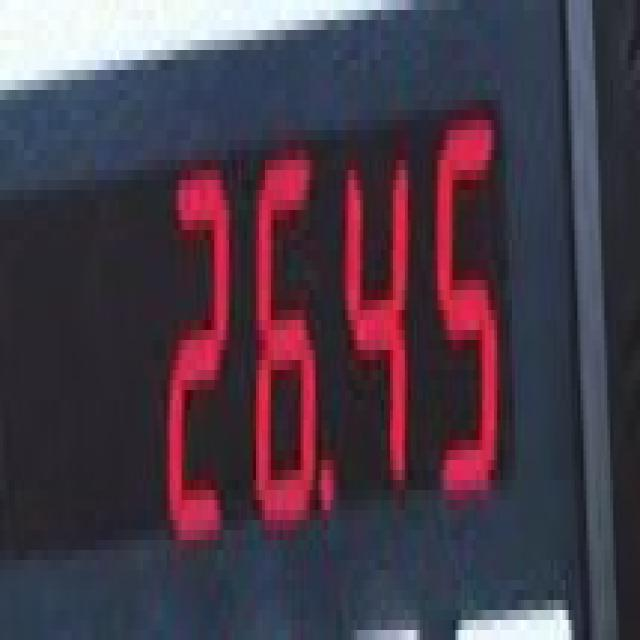.: (318, 440, 338, 520)
2: (165, 162, 236, 548)
4: (337, 145, 411, 489)
5: (430, 117, 502, 508)
6: (252, 151, 318, 534)
